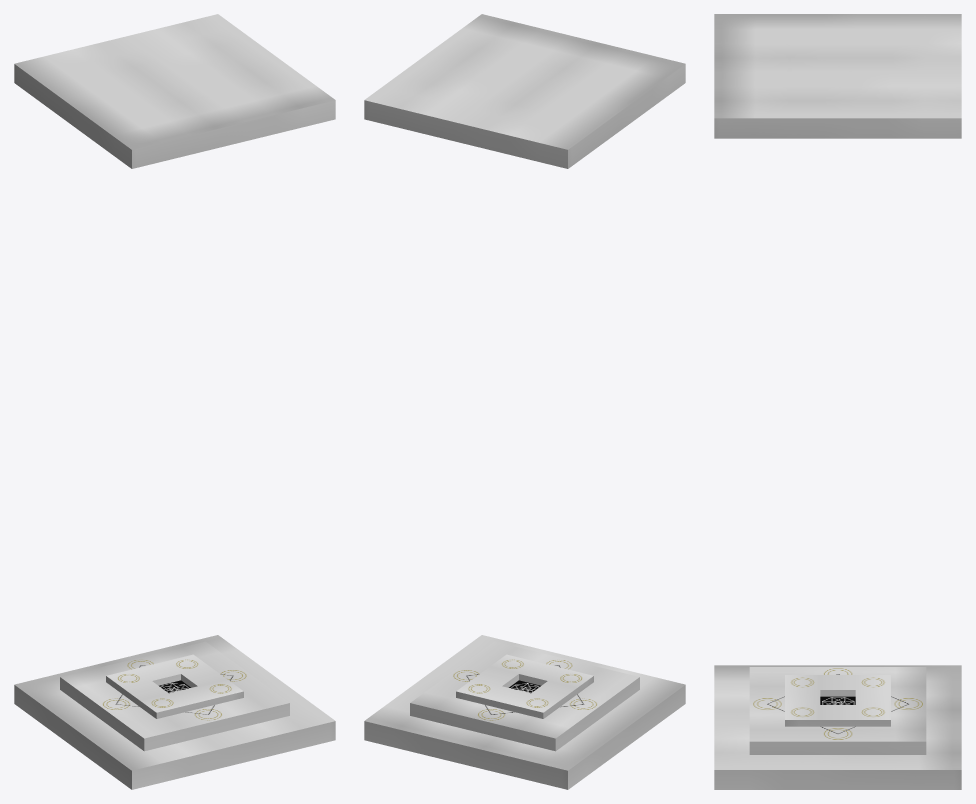
Rendered from blockBaseTank.obj.
3 renders of one model, left to right at view 1: azimuth 30°, elevation 25°; view 2: azimuth 150°, elevation 25°; view 3: azimuth 270°, elevation 25°, orthographic. The views are drawn at different scales.
Visible parts, largest first — view 1: Cube.001_Cube.011; view 2: Cube.001_Cube.011; view 3: Cube.001_Cube.011.
Part boxes in pixels (box(x1,y1,x2,y2)): Cube.001_Cube.011: box(14, 14, 335, 789); Cube.001_Cube.011: box(364, 14, 685, 789); Cube.001_Cube.011: box(714, 14, 961, 789).
Bounding box in the file's own units: 0.3333 × 1 × 0.3333.
